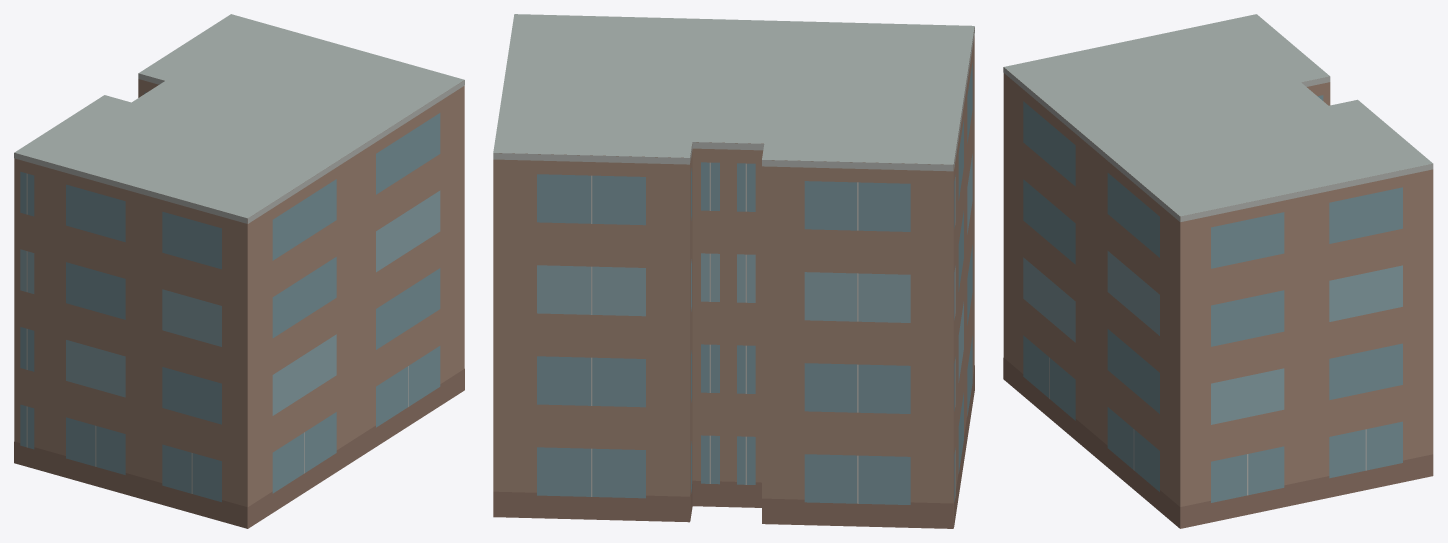
File: survey-upis-32739657.glb
3 views of the same model, side by side, from view 1: azimuth 30°, elevation 25°; view 2: azimuth 150°, elevation 25°; view 3: azimuth 270°, elevation 25° (orthographic). The views are drawn at different scales.
Parts seen in each view (by area): view 1: survey-upis-32739657.tmp; view 2: survey-upis-32739657.tmp; view 3: survey-upis-32739657.tmp.
Boxes of the visible parts, bbox=[...] form: survey-upis-32739657.tmp: bbox=[14, 14, 464, 528]; survey-upis-32739657.tmp: bbox=[493, 14, 974, 528]; survey-upis-32739657.tmp: bbox=[1003, 14, 1433, 528].
Size of the model in its own units: 18.65 by 13.4 by 16.72.
